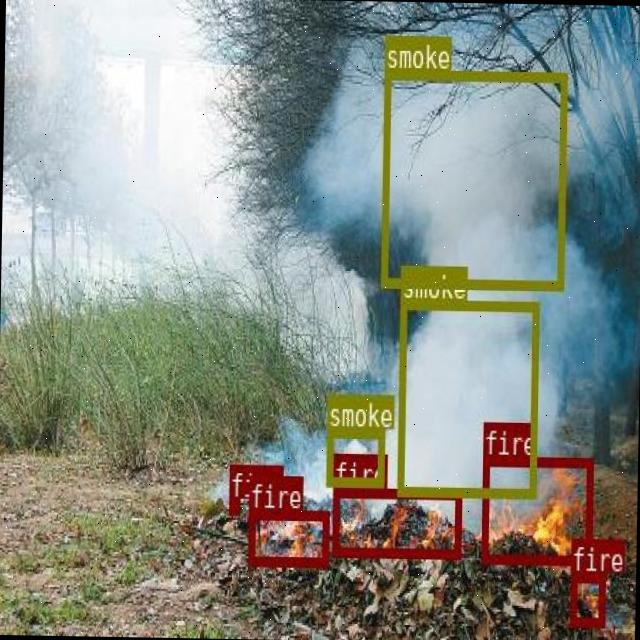fire: (479, 454, 592, 564), (332, 488, 460, 556), (248, 509, 328, 565), (568, 571, 604, 626), (228, 498, 237, 512)
smoke: (380, 68, 566, 289), (397, 298, 538, 496), (325, 427, 383, 484)
